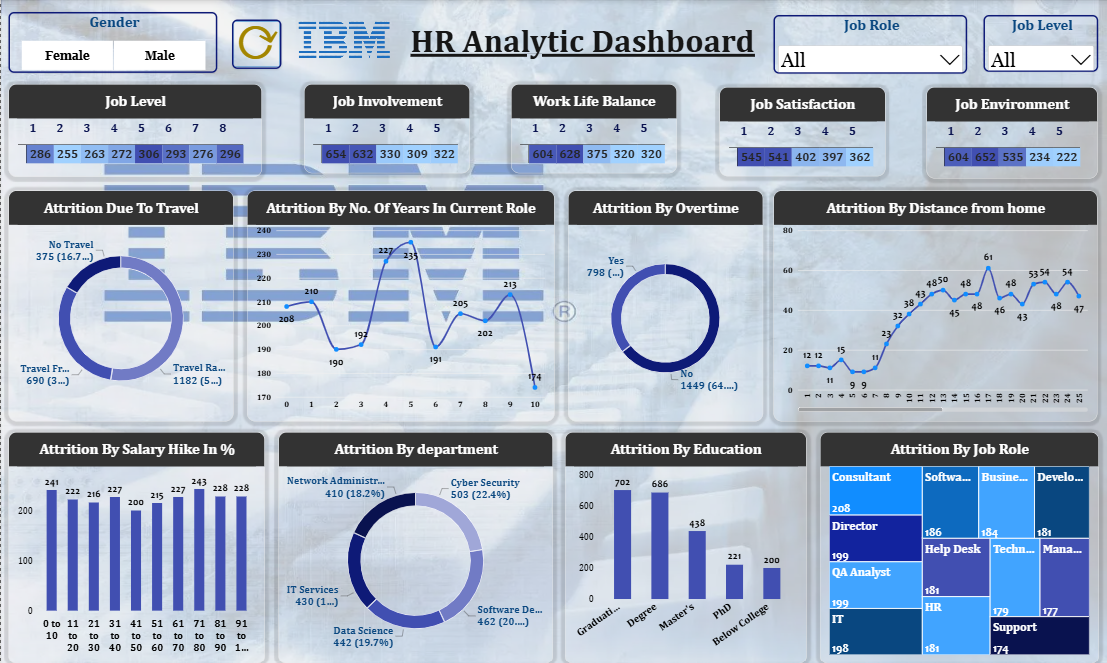

What the dashboard file says about the page in this screenshot:
{"tool":"powerbi","page":{"name":"Attrition Drivers & Demographics","canvas":[2000,1200],"ordinal":1},"visuals":[{"type":"donutChart","title":"Attrition By department","fields":{"Category":["project employees.Department"],"Y":["project employees.Attrition_YES"]},"box":[500.6,780.7,496.1,420.2],"z":0},{"type":"treemap","title":"Attrition By Job Role","fields":{"Values":["project employees.Attrition_YES"],"Group":["project employees.Job_role"]},"box":[1480.2,780.7,504.2,420.2],"z":1000},{"type":"lineChart","title":"Attrition By Distance from home","fields":{"Y":["project employees.Attrition_YES"],"Category":["project employees.Distance_from_office"]},"box":[1396.1,344.3,585.6,417.5],"z":2000},{"type":"donutChart","title":"Attrition By Overtime","fields":{"Y":["project employees.Attrition_YES"],"Category":["project employees.Overtime"]},"box":[1024.7,344.3,352.4,417.5],"z":3000},{"type":"pivotTable","title":"Job Satisfaction","fields":{"Values":["project employees.Attrition_YES"],"Columns":["project employees.Job_satisfaction"]},"box":[1297.4,157.2,300,161],"z":4000},{"type":"pivotTable","title":"Job Environment","fields":{"Values":["project employees.Attrition_YES"],"Columns":["project employees.Environment_satisfaction"]},"box":[1672.6,157.2,309,165.4],"z":5000},{"type":"pivotTable","title":"Work Life Balance","fields":{"Values":["project employees.Attrition_YES"],"Columns":["project employees.Work_life_balance"]},"box":[922.2,151.8,300,161],"z":6000},{"type":"donutChart","title":"Attrition Due To Travel","fields":{"Y":["project employees.Attrition_YES"],"Category":["project employees.Business_Travel"]},"box":[13.6,344.3,406.6,417.5],"z":7000},{"type":"lineChart","title":"Attrition By No. Of Years In Current Role","fields":{"Y":["project employees.Attrition_YES"],"Category":["project employees.No_of_years_in_current_roleYears_since_last_promotion"]},"box":[444.6,344.3,555.7,417.5],"z":8000},{"type":"columnChart","title":"Attrition By Salary Hike In %","fields":{"Y":["project employees.Attrition_YES"],"Category":["project employees.Salary_Hike_in_percent (groups) 2"]},"box":[13.6,780.7,463.6,420.2],"z":9000},{"type":"columnChart","title":"Attrition By Education","fields":{"Y":["project employees.Attrition_YES"],"Category":["project employees.Education"]},"box":[1020.2,780.7,436.5,420.2],"z":10000},{"type":"pivotTable","title":"Job Involvement","fields":{"Values":["project employees.Attrition_YES"],"Columns":["project employees.Job_involvement"]},"box":[546.9,151.8,300,161],"z":11000},{"type":"pivotTable","title":"Job Level","fields":{"Values":["project employees.Attrition_YES"],"Columns":["project employees.Job_level"]},"box":[13.6,151.8,458.1,168.1],"z":12000},{"type":"textbox","box":[740.1,38,637.5,70],"z":13000},{"type":"slicer","title":"Gender","fields":{"Values":["project employees.Gender"]},"box":[12.5,22.5,377.5,110],"z":14000},{"type":"slicer","title":"Job Level","fields":{"Values":["project employees.Job_level"]},"box":[1775,27.5,207.5,102.5],"z":15000},{"type":"slicer","title":"Job Role","fields":{"Values":["project employees.Job_role","project employees.Department"]},"box":[1396.1,27.1,349.7,105.7],"z":16000},{"type":"image","box":[531.3,13.6,177.5,117.5],"z":17000},{"type":"textbox","box":[425.6,19,75.9,111.1],"z":18000},{"type":"shape","box":[417.5,35.2,89.5,89.5],"z":19000}]}

Visuals, with their boxes in screenshot pixels (x1, y1, x2, y2), scaled from the page's 2000x1200 canvas onto the 1107x663 screenshot:
"Attrition By department" donutChart: (277, 431, 552, 662)
"Attrition By Job Role" treemap: (819, 431, 1098, 662)
"Attrition By Distance from home" lineChart: (773, 190, 1097, 421)
"Attrition By Overtime" donutChart: (567, 190, 762, 421)
"Job Satisfaction" pivotTable: (718, 87, 884, 176)
"Job Environment" pivotTable: (926, 87, 1097, 178)
"Work Life Balance" pivotTable: (510, 84, 676, 173)
"Attrition Due To Travel" donutChart: (8, 190, 233, 421)
"Attrition By No. Of Years In Current Role" lineChart: (246, 190, 554, 421)
"Attrition By Salary Hike In %" columnChart: (8, 431, 264, 662)
"Attrition By Education" columnChart: (565, 431, 806, 662)
"Job Involvement" pivotTable: (303, 84, 469, 173)
"Job Level" pivotTable: (8, 84, 261, 177)
textbox: (410, 21, 763, 60)
"Gender" slicer: (7, 12, 216, 73)
"Job Level" slicer: (982, 15, 1097, 72)
"Job Role" slicer: (773, 15, 966, 73)
image: (294, 8, 392, 72)
textbox: (236, 10, 278, 72)
shape: (231, 19, 281, 69)
